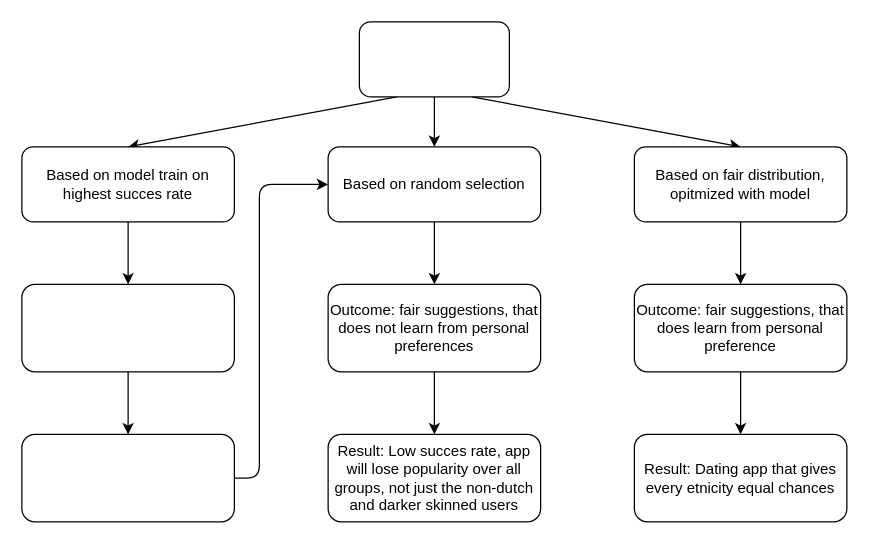
This 869x544 diagram has some shape labels left out. Each missing label, with the box of its shape:
Decision: which user suggested as match: (358, 21, 509, 97)
Outcome: highest succes rate for majority, in this case light skinned users: (21, 283, 234, 372)
Result: product needs to be modified due to discrimination: (21, 433, 234, 522)
